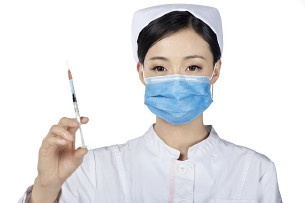Mask: (143, 50, 214, 120)
